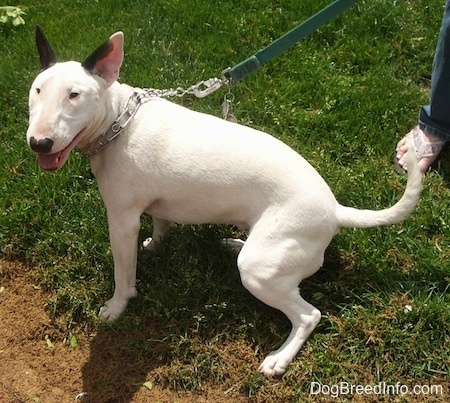bull_terrier: (25, 23, 424, 379)
